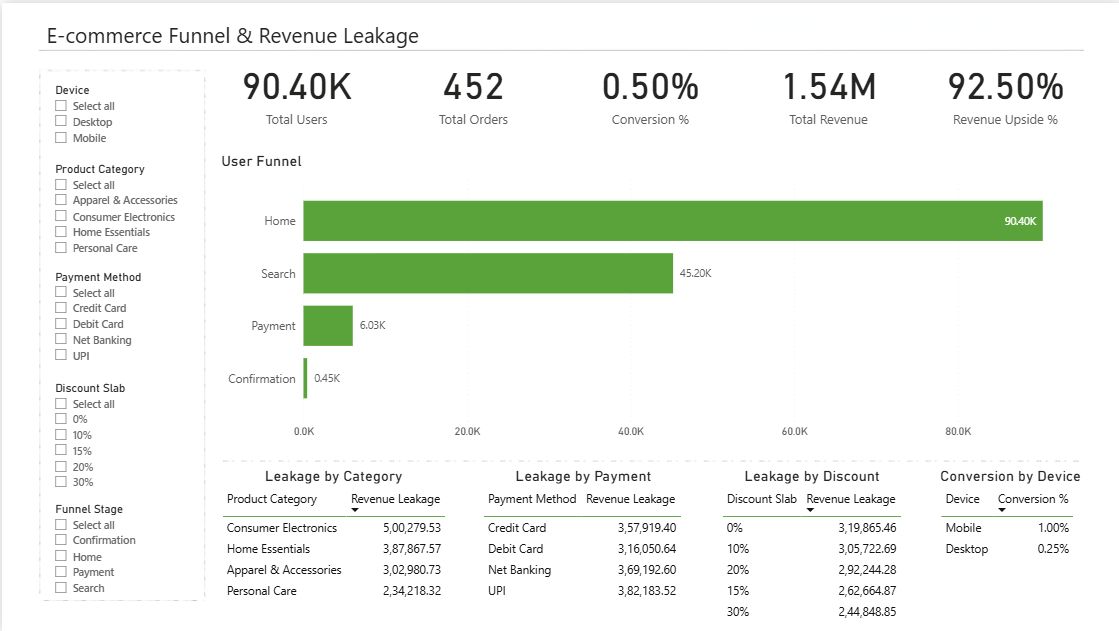

Layout of this report page (visuals, bound fields, positions):
{"tool":"powerbi","page":{"name":"Page 1","canvas":[1280,720],"ordinal":0},"visuals":[{"type":"barChart","title":"User Funnel","fields":{"Category":["Funnel_Stage.Stage"],"Y":["Funnel_Stage.Users by Funnel Stage"]},"box":[245,170,993.8,335],"z":0},{"type":"card","fields":{"Values":["user_table.Total Users"]},"box":[245,56.2,182.5,90],"z":1000},{"type":"slicer","fields":{"Values":["user_table.device"]},"box":[45.7,83.8,182.5,86.2],"z":2000},{"type":"card","fields":{"Values":["orders_enriched.Total Orders"]},"box":[447.2,56.2,183.8,90],"z":3000},{"type":"card","fields":{"Values":["orders_enriched.Conversion %"]},"box":[650.6,56.2,182.5,90],"z":4000},{"type":"card","fields":{"Values":["orders_enriched.Total Revenue"]},"box":[852.8,56.2,183.8,90],"z":5000},{"type":"card","fields":{"Values":["orders_enriched.Revenue Leakage %"]},"box":[1056.2,56.2,182.5,90],"z":6000},{"type":"slicer","fields":{"Values":["user_funnel.max_stage"]},"box":[45.7,562.9,182.9,124.3],"z":7000},{"type":"slicer","fields":{"Values":["orders_enriched.product_category"]},"box":[45.7,174.9,182.5,117.5],"z":8000},{"type":"slicer","fields":{"Values":["orders_enriched.discount_slab"]},"box":[45.7,423.7,182.9,134.3],"z":9000},{"type":"tableEx","title":"Leakage by Category","fields":{"Values":["orders_enriched.product_category","orders_enriched.Revenue Leakage by Category"]},"box":[245.6,530.5,267,189.5],"z":10000},{"type":"tableEx","title":"Conversion by Device","fields":{"Values":["user_table.device","orders_enriched.Conversion % by Device"]},"box":[1067.5,530,171.2,190],"z":11000},{"type":"tableEx","title":"Leakage by Discount","fields":{"Values":["orders_enriched.discount_slab","orders_enriched.Revenue Leakage by Discount"]},"box":[817.5,530,217.5,190],"z":12000},{"type":"tableEx","title":"Leakage by Payment","fields":{"Values":["orders_enriched.payment_method","orders_enriched.Revenue Leakage by Payment Method"]},"box":[544.6,530.5,240.8,189.5],"z":13000},{"type":"textbox","box":[46.2,15,445,50],"z":14000},{"type":"slicer","fields":{"Values":["orders_enriched.payment_method"]},"box":[45.7,297.3,182.9,121.4],"z":15000}]}

Visuals, with their boxes in screenshot pixels (x1, y1, x2, y2), scaled from the page's 1280x720 canvas onto the 1119x631 screenshot:
"User Funnel" barChart: [x1=214, y1=149, x2=1083, y2=443]
card - user_table.Total Users: [x1=214, y1=49, x2=374, y2=128]
slicer - user_table.device: [x1=40, y1=73, x2=199, y2=149]
card - orders_enriched.Total Orders: [x1=391, y1=49, x2=552, y2=128]
card - orders_enriched.Conversion %: [x1=569, y1=49, x2=728, y2=128]
card - orders_enriched.Total Revenue: [x1=746, y1=49, x2=906, y2=128]
card - orders_enriched.Revenue Leakage %: [x1=923, y1=49, x2=1083, y2=128]
slicer - user_funnel.max_stage: [x1=40, y1=493, x2=200, y2=602]
slicer - orders_enriched.product_category: [x1=40, y1=153, x2=199, y2=256]
slicer - orders_enriched.discount_slab: [x1=40, y1=371, x2=200, y2=489]
"Leakage by Category" tableEx: [x1=215, y1=465, x2=448, y2=630]
"Conversion by Device" tableEx: [x1=933, y1=464, x2=1083, y2=630]
"Leakage by Discount" tableEx: [x1=715, y1=464, x2=905, y2=630]
"Leakage by Payment" tableEx: [x1=476, y1=465, x2=687, y2=630]
textbox: [x1=40, y1=13, x2=429, y2=57]
slicer - orders_enriched.payment_method: [x1=40, y1=261, x2=200, y2=367]
